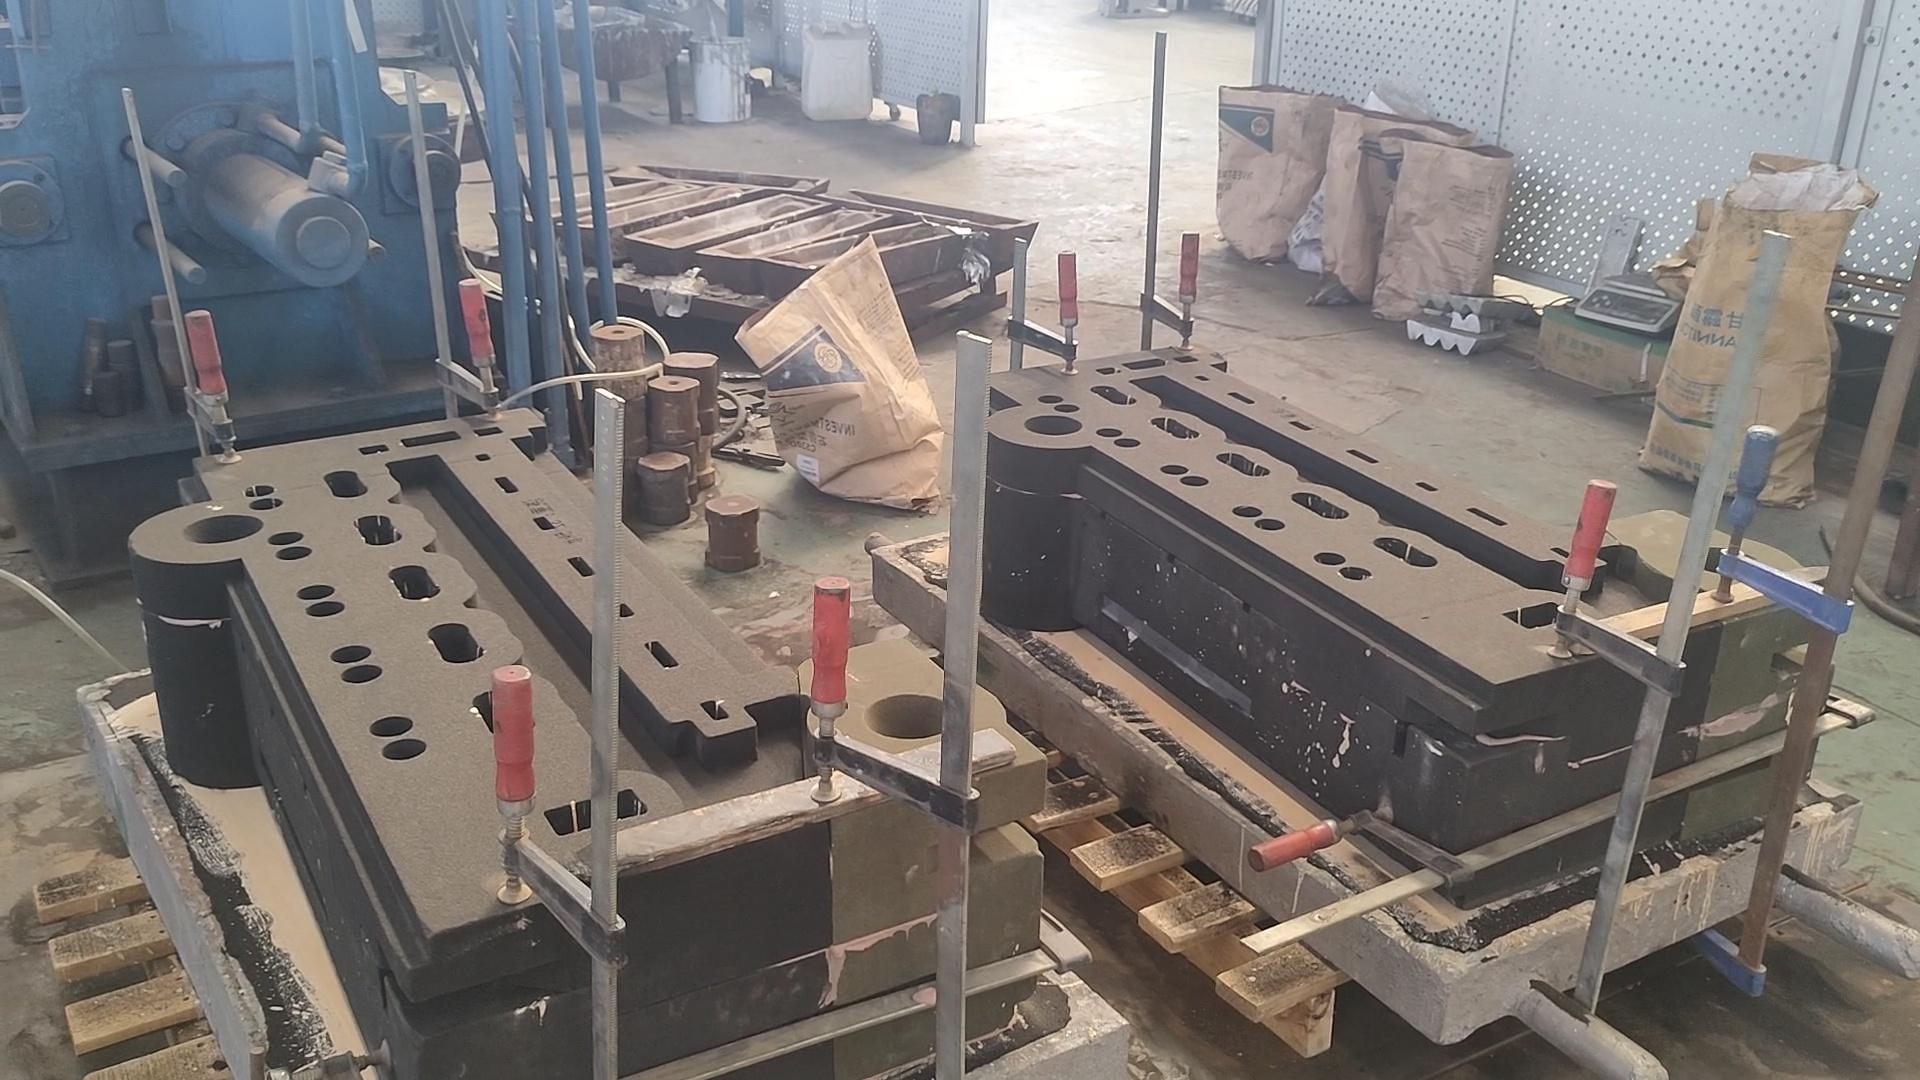pouring hole: (864, 694, 953, 740), (182, 514, 264, 545), (1691, 542, 1755, 578), (1025, 415, 1083, 436)
